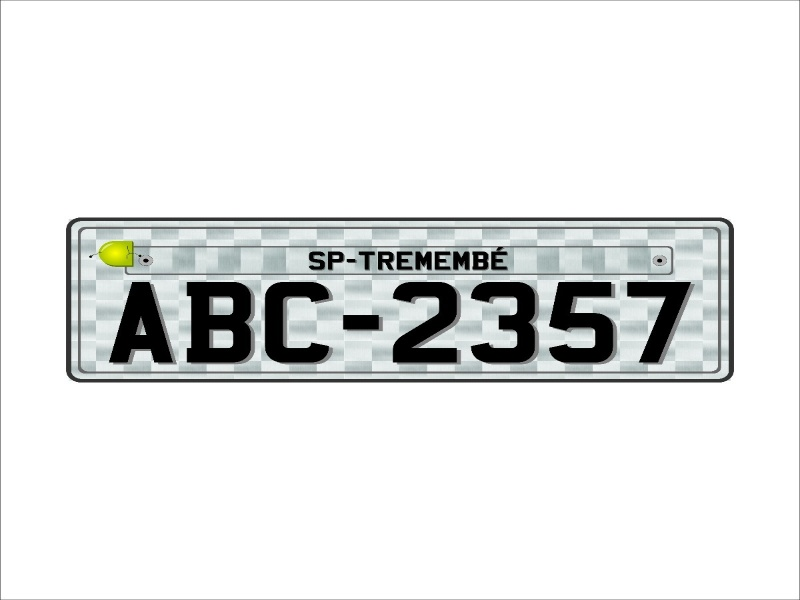placa: (60, 210, 741, 387)
